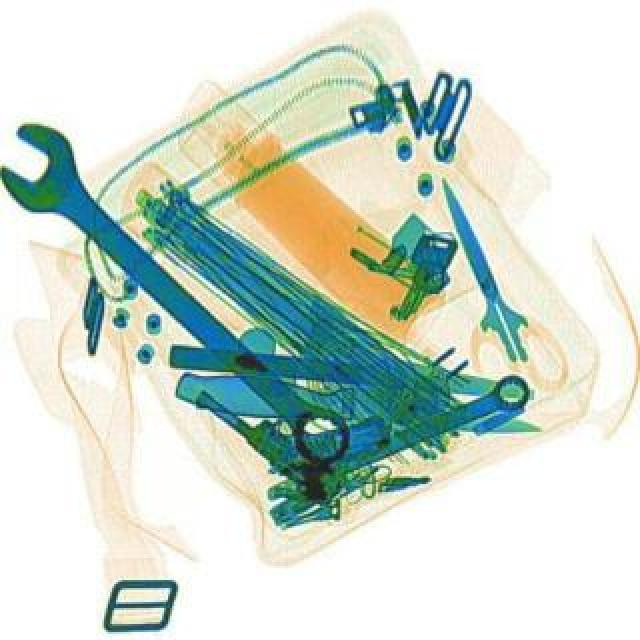gun: (192, 322, 396, 506)
knife: (172, 364, 542, 446), (418, 170, 540, 368), (168, 342, 538, 404)
scissors: (0, 132, 372, 478), (270, 366, 538, 506)
